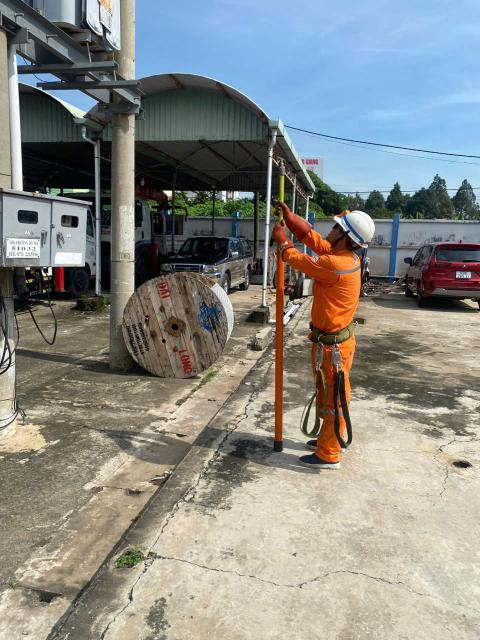gloves: (276, 197, 318, 243), (268, 231, 302, 255)
harness: (298, 303, 367, 352)
helmet: (329, 200, 388, 255)
shoes: (288, 451, 350, 472), (296, 436, 352, 457)
